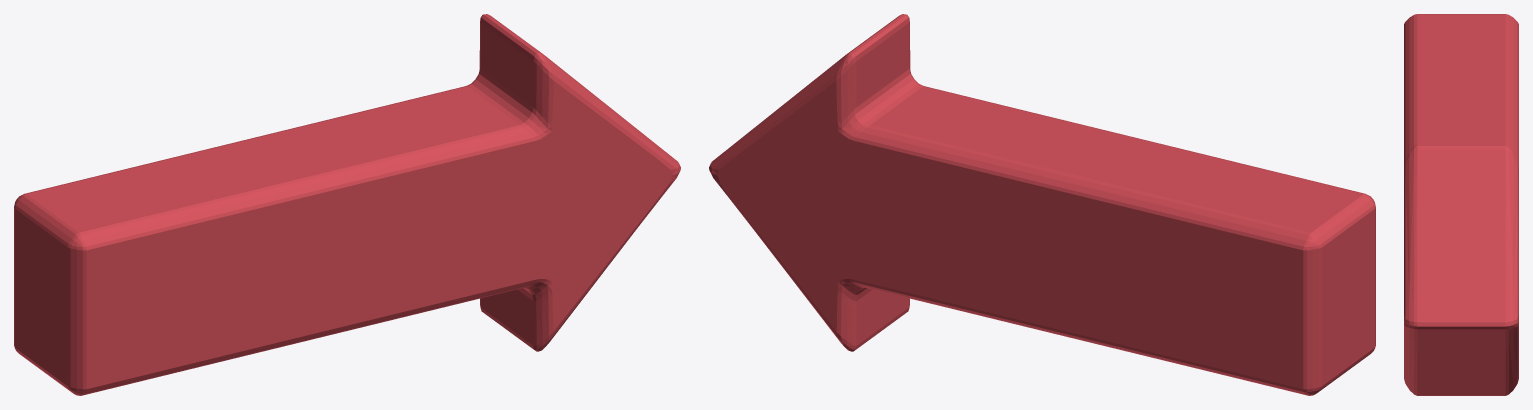
The model's file is pijl-links.gltf.
3 views of the same model, side by side, from view 1: azimuth 30°, elevation 25°; view 2: azimuth 150°, elevation 25°; view 3: azimuth 270°, elevation 25° (orthographic). The views are drawn at different scales.
Size of the model in its own units: 0.3 by 0.1397 by 0.0582.
